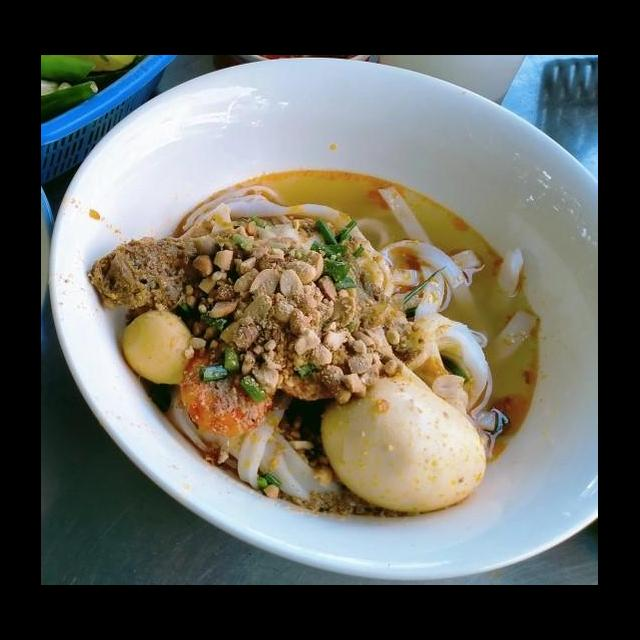mi: (202, 350, 472, 531), (124, 169, 256, 345), (381, 182, 466, 392)
thit heo: (320, 96, 416, 206)
tom: (194, 184, 316, 288)
trung: (112, 316, 279, 485), (248, 128, 336, 202)
